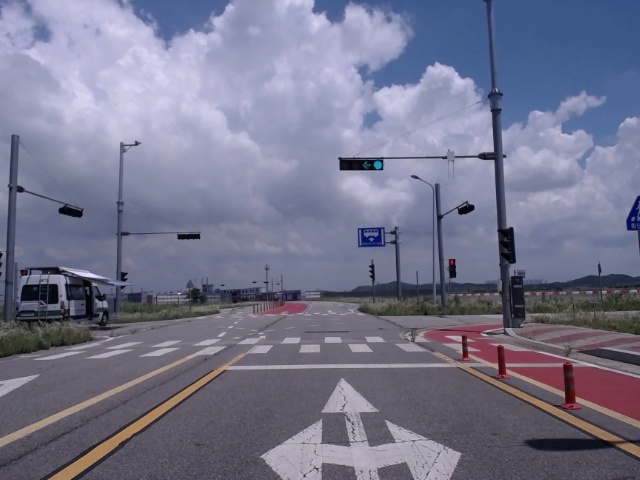all_green_4: (334, 157, 382, 171)
